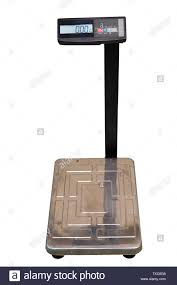Industrial Scale: (45, 16, 143, 261)
